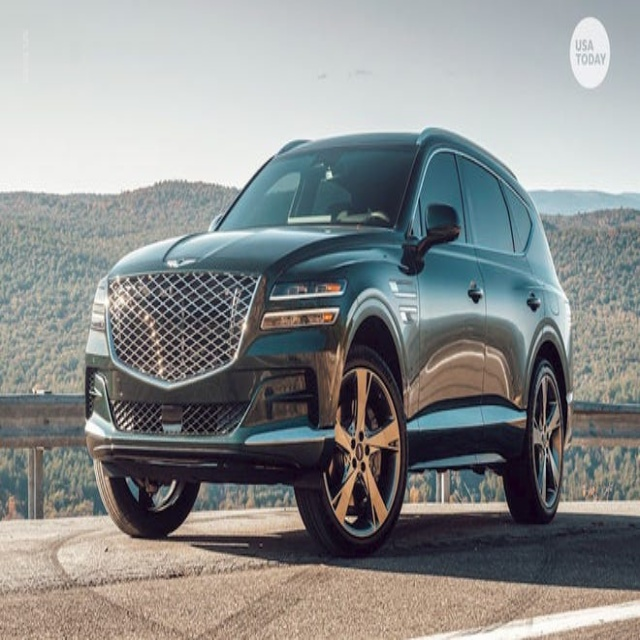Car: (83, 128, 572, 561)
